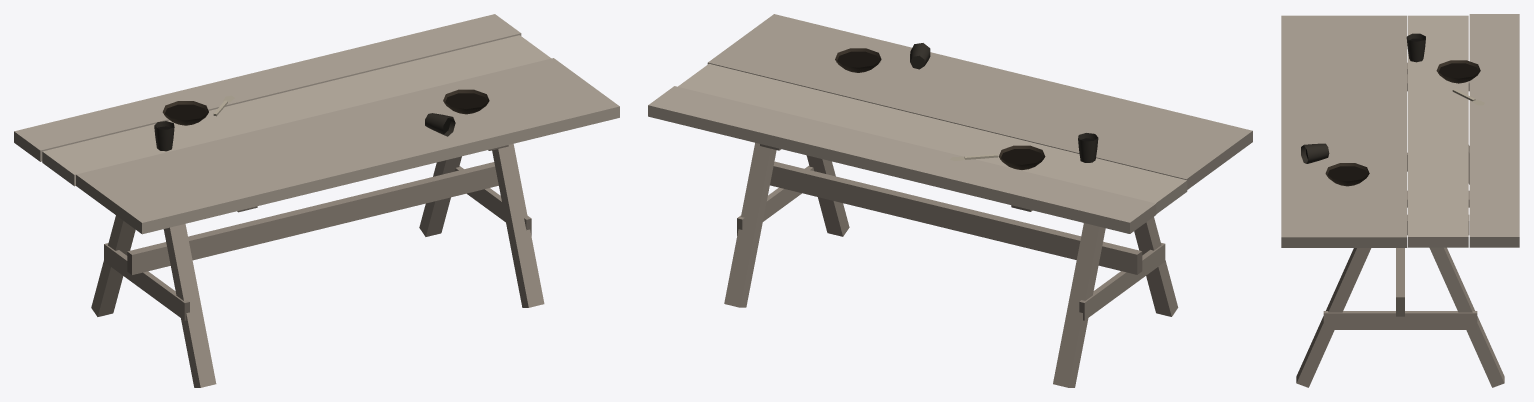
The model's file is prop_table_set.glb.
The picture shows the model from 3 angles, left to right: view 1: azimuth 30°, elevation 25°; view 2: azimuth 150°, elevation 25°; view 3: azimuth 270°, elevation 25°; orthographic projection. The views are drawn at different scales.
Parts seen in each view (by area): view 1: TableSet, TableSetSoft; view 2: TableSet, TableSetSoft; view 3: TableSet, TableSetSoft.
Part boxes in pixels (bbox=[...]): TableSet: bbox=[14, 14, 619, 387]; TableSetSoft: bbox=[154, 89, 489, 151]; TableSet: bbox=[648, 14, 1252, 387]; TableSetSoft: bbox=[835, 43, 1098, 169]; TableSet: bbox=[1281, 14, 1519, 387]; TableSetSoft: bbox=[1301, 33, 1480, 186].
Bounding box in the file's own units: 1.99 × 0.8494 × 0.9.
